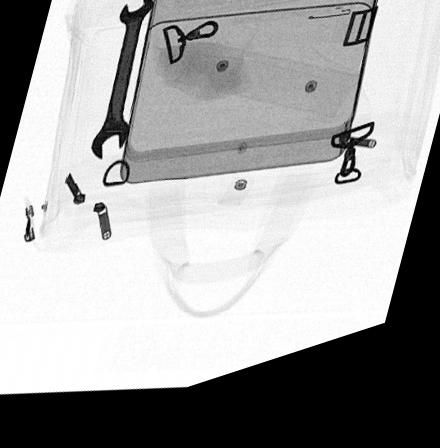Wrench: (90, 2, 155, 163)
